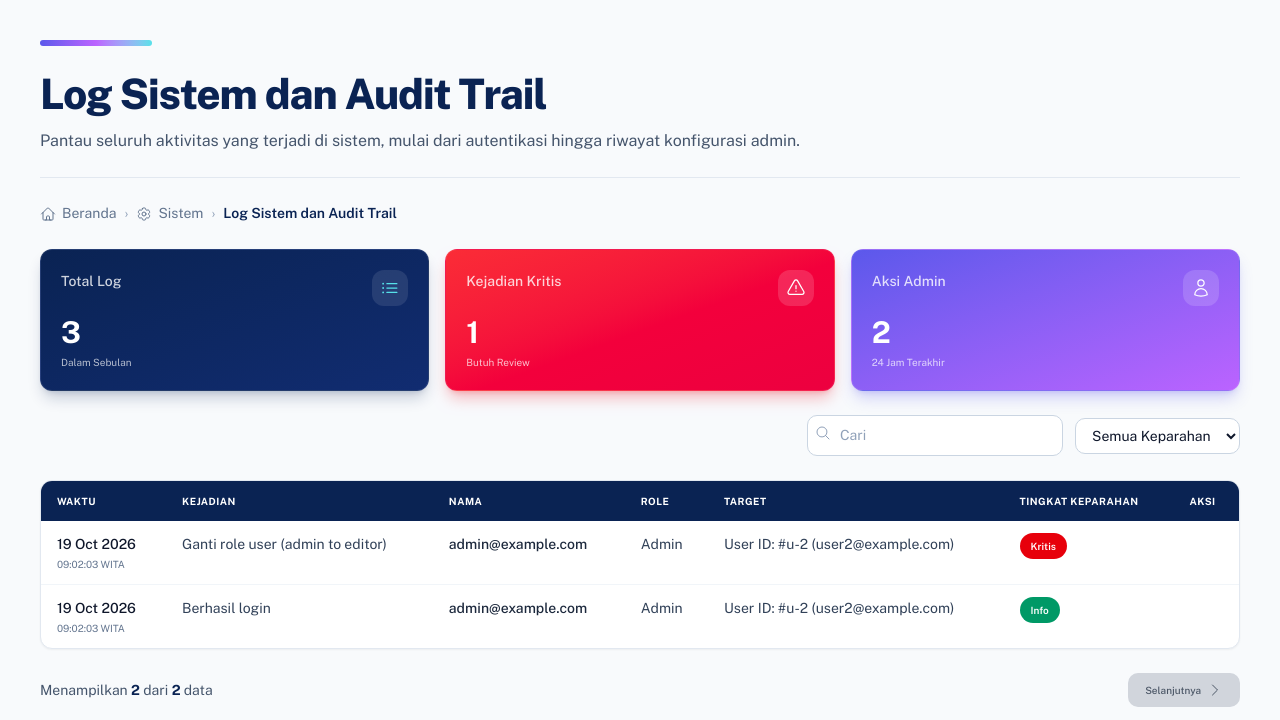
Test: AuditLogView › filters rows client-side via the search box
The width and height of the screenshot is (1280, 720).
Expected: the table shows "Ganti role user", [182,536,387,552]
Type "login" into the search field with id "audit-search".
click(935, 436); type("login")  # box [807,415,1063,456]
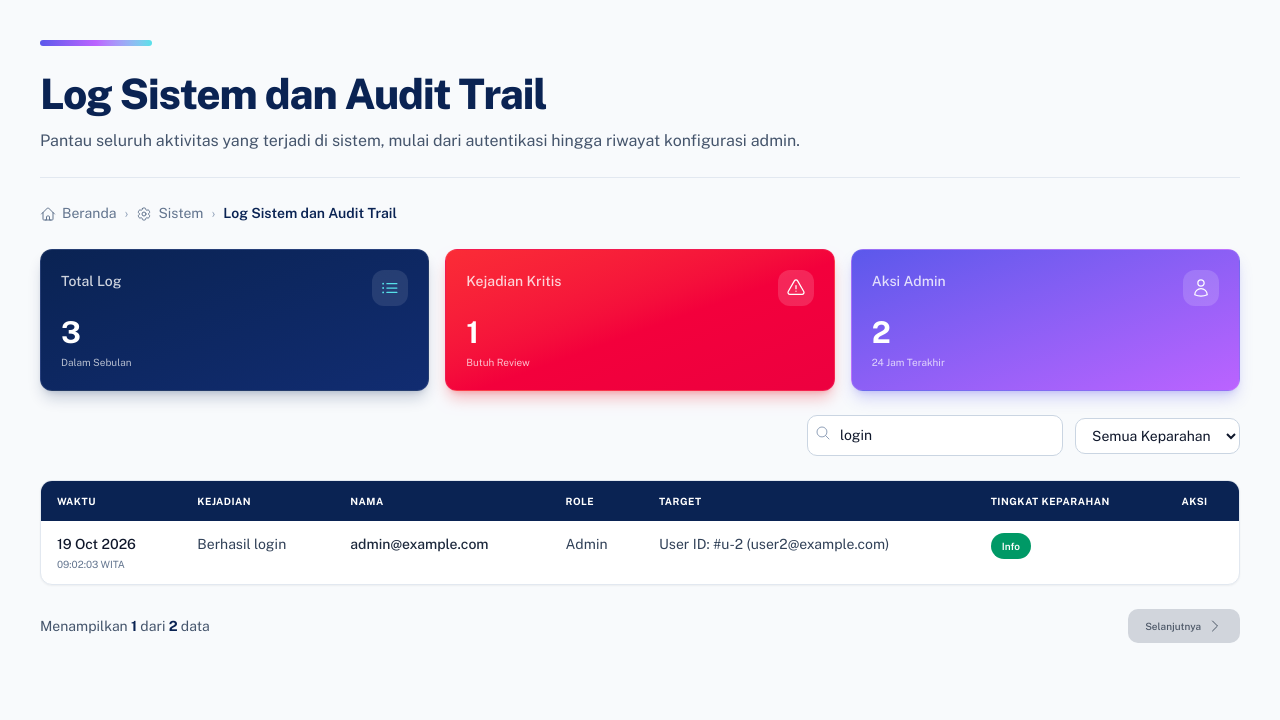
Expected: the table shows "Berhasil login", [197,536,286,552]
Expected: the cell no longer shows "Ganti role user"
